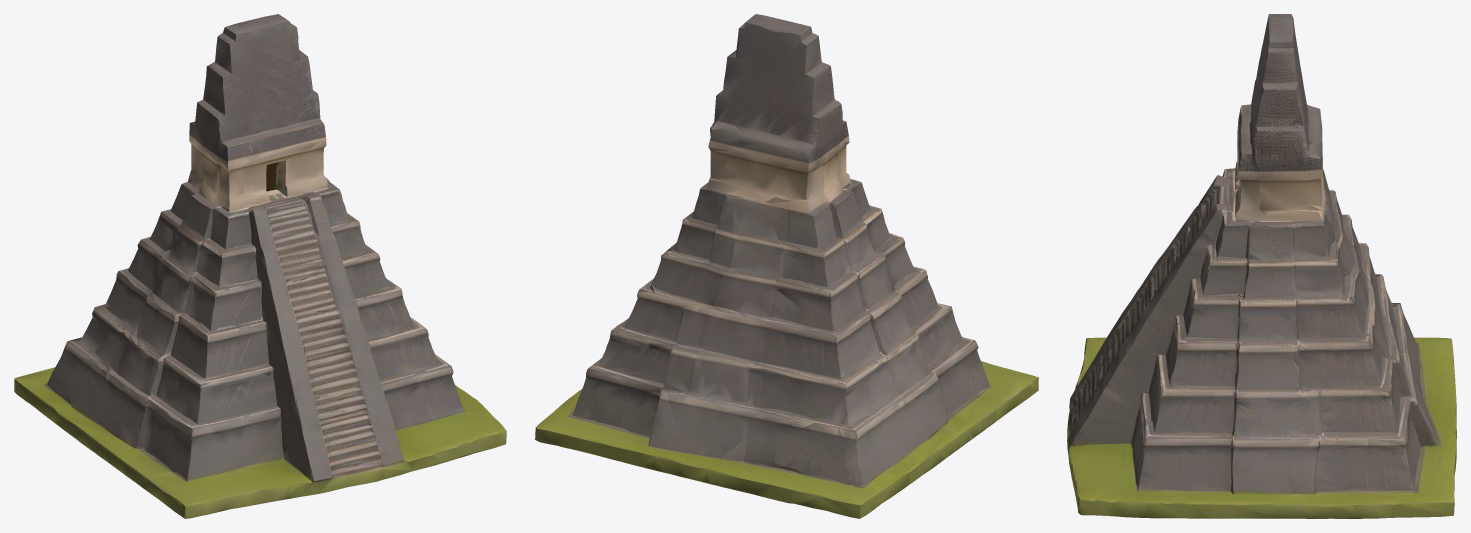
Rendered from tikal-temple-one.glb.
3 renders of one model, left to right at view 1: azimuth 30°, elevation 25°; view 2: azimuth 150°, elevation 25°; view 3: azimuth 270°, elevation 25°, orthographic. The views are drawn at different scales.
Parts seen in each view (by area): view 1: logan-textured.obj; view 2: logan-textured.obj; view 3: logan-textured.obj.
Boxes of the visible parts, left/top/right/bottom form: logan-textured.obj: left=14, top=14, right=506, bottom=518; logan-textured.obj: left=535, top=14, right=1038, bottom=518; logan-textured.obj: left=1067, top=14, right=1456, bottom=518.
Bounding box in the file's own units: 0.8794 × 1 × 0.8625.
1 material, 1 textured.
